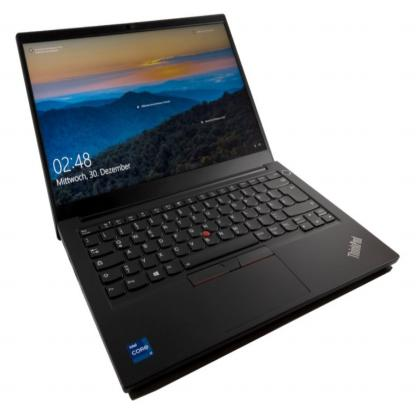NOTEBOOK: (2, 25, 416, 379)
